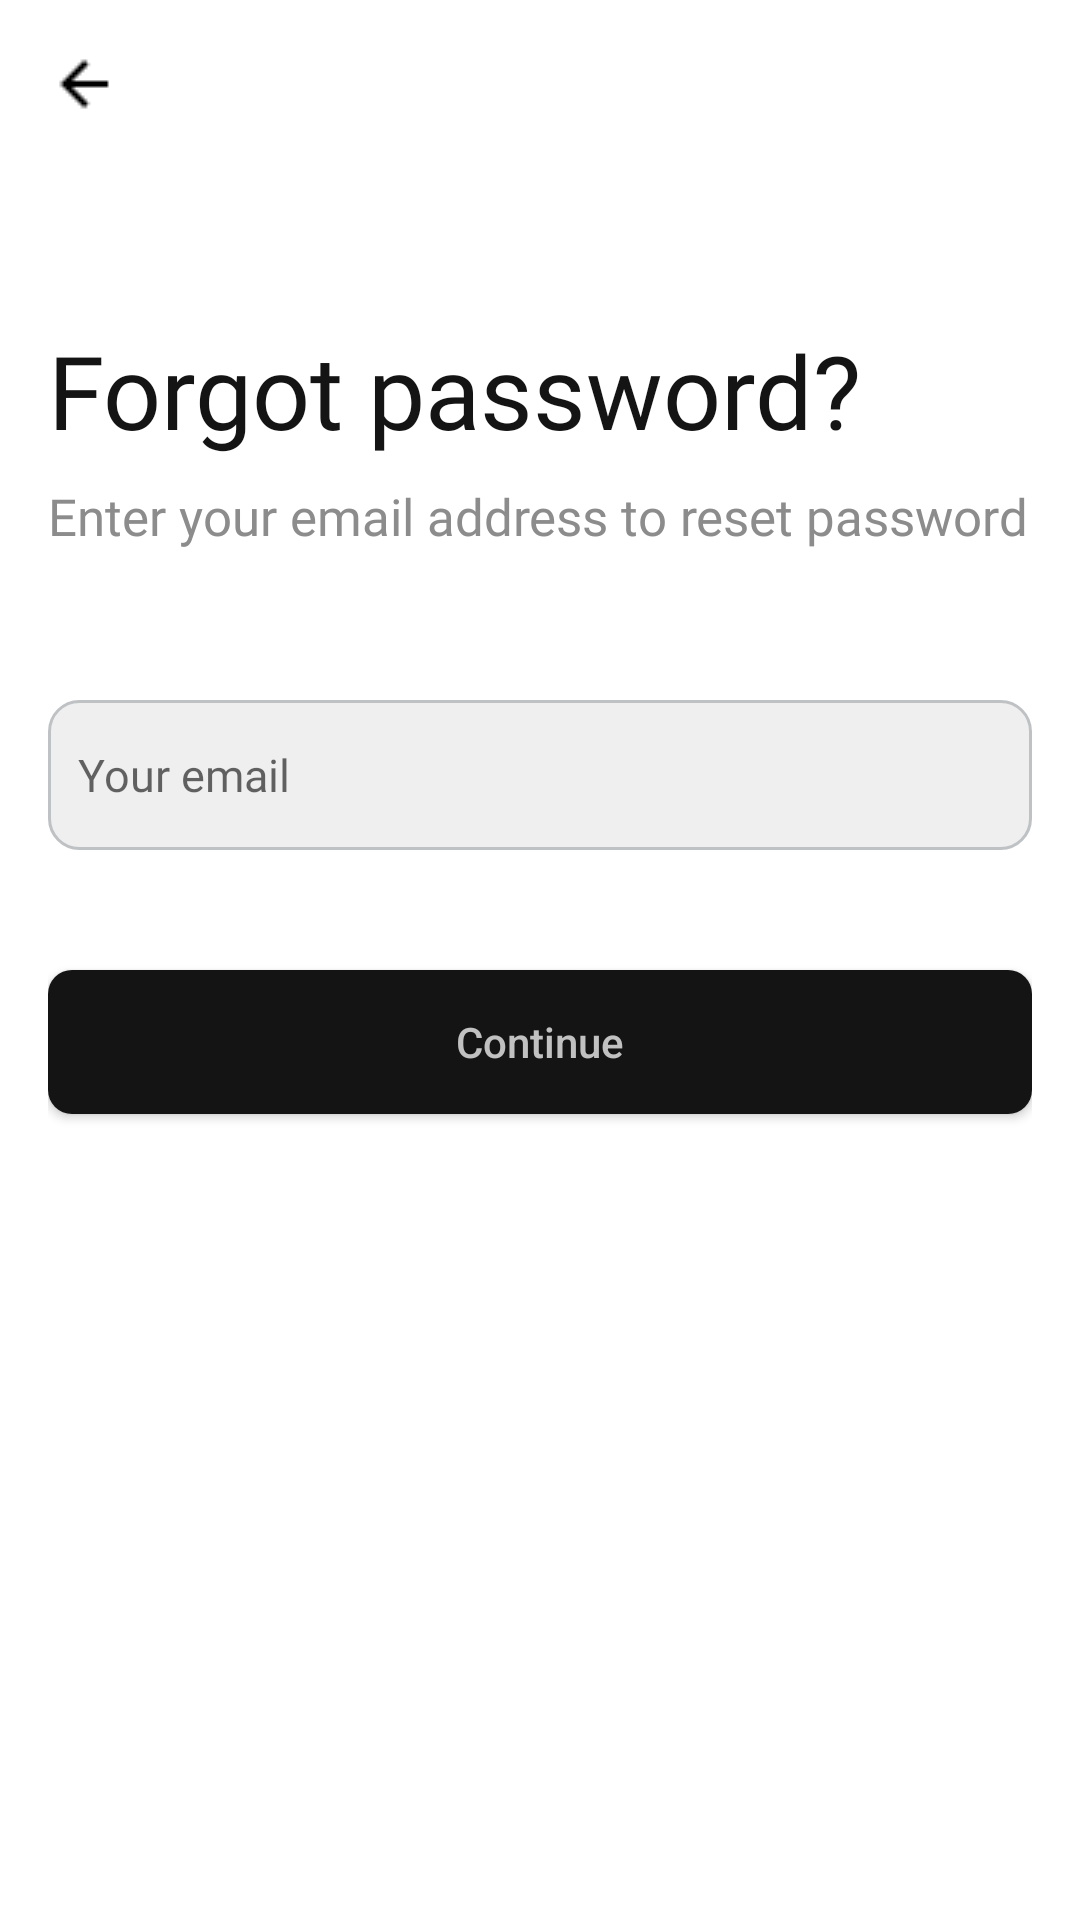

Screen size 1080px x 1920px. Icon name, then its box in pixels as (x1, y1, x2, y2):
arrow left: (59, 59, 109, 109)
